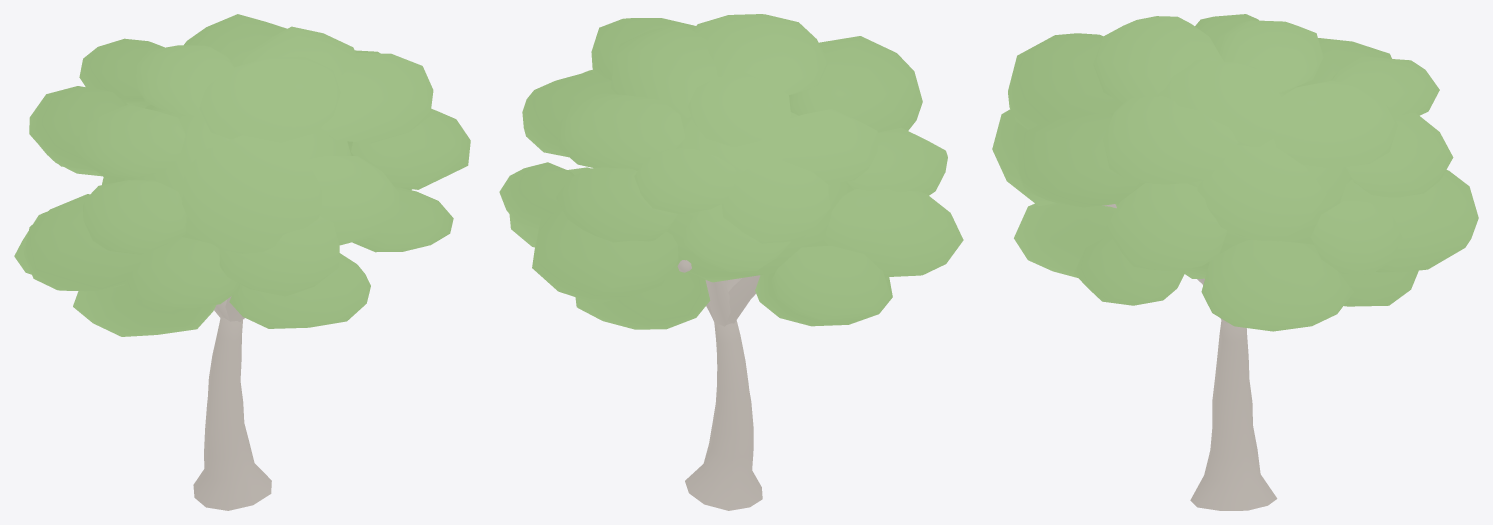
Rendered from Blender_LakeBlackOak_3.glb.
3 views of the same model, side by side, from view 1: azimuth 30°, elevation 25°; view 2: azimuth 150°, elevation 25°; view 3: azimuth 270°, elevation 25° (orthographic). The views are drawn at different scales.
Parts seen in each view (by area): view 1: Blender_LakeBlackOak_3; view 2: Blender_LakeBlackOak_3; view 3: Blender_LakeBlackOak_3.
Part boxes in pixels (bbox=[...]): Blender_LakeBlackOak_3: bbox=[14, 14, 470, 510]; Blender_LakeBlackOak_3: bbox=[499, 14, 963, 510]; Blender_LakeBlackOak_3: bbox=[992, 14, 1478, 510].
Size of the model in its own units: 17.88 by 18.56 by 17.13.
